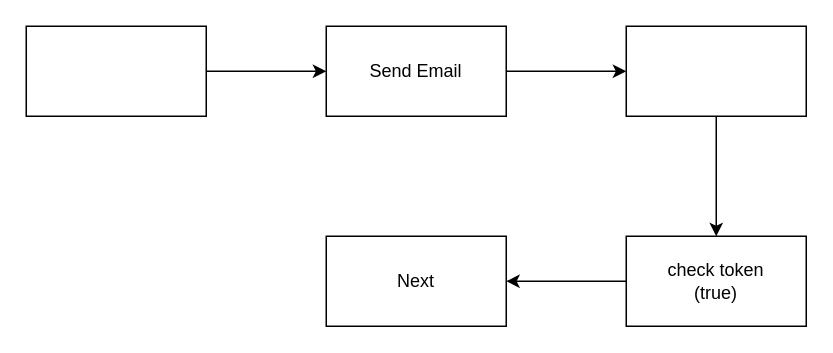
Image size: 833x353. Some labels were removed from this diagram. The box of each missing label's shape, as (x1, y1, x2, y2) in pixels:
Generate random token: (625, 25, 806, 116)
Nodemailer: (25, 25, 206, 116)
